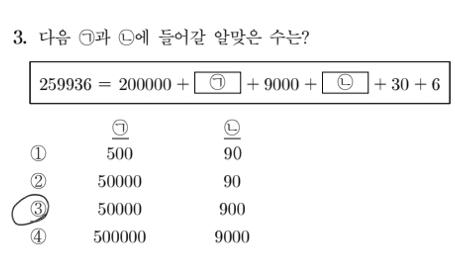1: (9, 193, 53, 226)
paper: (27, 142, 48, 163), (28, 170, 49, 191), (28, 197, 49, 218), (28, 225, 49, 246)
